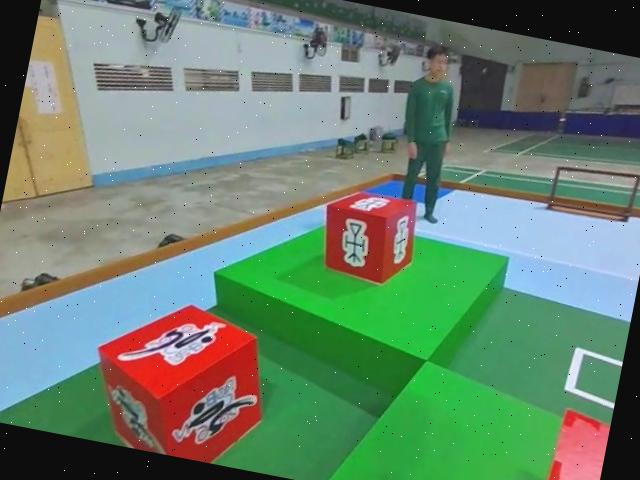R1: (78, 284, 282, 472)
R2 Real: (309, 181, 426, 293)
